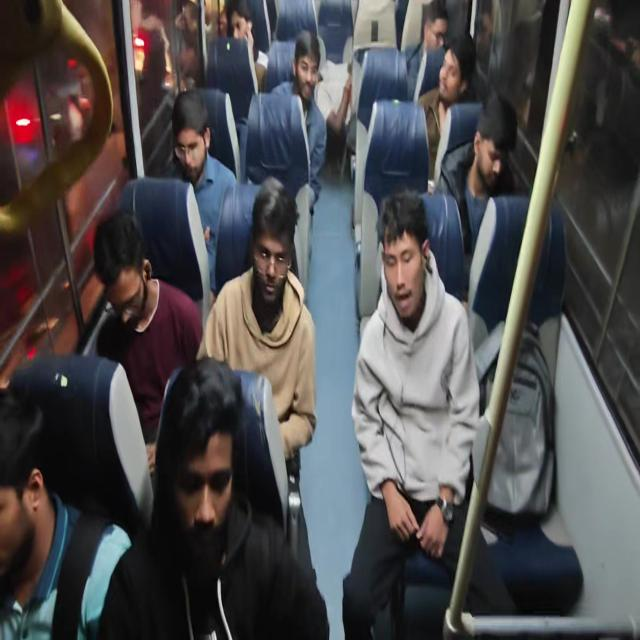person: (1, 1, 579, 638), (342, 188, 514, 638), (96, 355, 330, 639), (196, 176, 317, 579), (0, 386, 133, 639), (92, 207, 203, 468), (5, 351, 154, 538), (0, 0, 114, 237), (163, 88, 237, 298), (434, 92, 518, 256), (268, 29, 327, 213), (417, 32, 477, 190), (406, 1, 449, 102), (225, 0, 268, 94), (470, 0, 500, 101)
